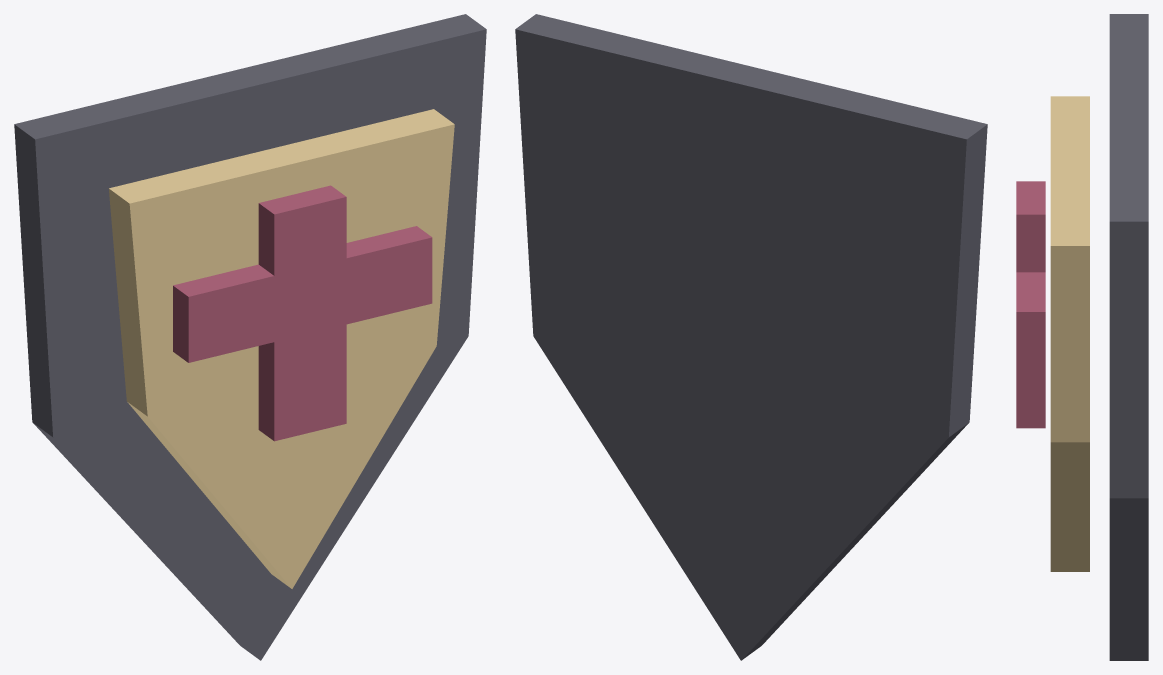
File: ACC_Crest_Badge.glb
The picture shows the model from 3 angles, left to right: view 1: azimuth 30°, elevation 25°; view 2: azimuth 150°, elevation 25°; view 3: azimuth 270°, elevation 25°; orthographic projection. The views are drawn at different scales.
Visible parts, largest first — view 1: ACC_Crest_Badge_1, ACC_Crest_Badge_2, ACC_Crest_Badge_3, ACC_Crest_Badge_4; view 2: ACC_Crest_Badge_1; view 3: ACC_Crest_Badge_1, ACC_Crest_Badge_2, ACC_Crest_Badge_3, ACC_Crest_Badge_4.
Boxes of the visible parts, x1,y1,x2,y2 form: ACC_Crest_Badge_1: (14, 14, 486, 660); ACC_Crest_Badge_2: (108, 109, 454, 588); ACC_Crest_Badge_3: (258, 185, 346, 441); ACC_Crest_Badge_4: (173, 226, 432, 362); ACC_Crest_Badge_1: (515, 14, 987, 660); ACC_Crest_Badge_1: (1109, 14, 1148, 660); ACC_Crest_Badge_2: (1050, 96, 1089, 571); ACC_Crest_Badge_3: (1016, 181, 1045, 428); ACC_Crest_Badge_4: (1016, 272, 1045, 374).
Bounding box in the file's own units: 0.05 × 0.061 × 0.0135.
